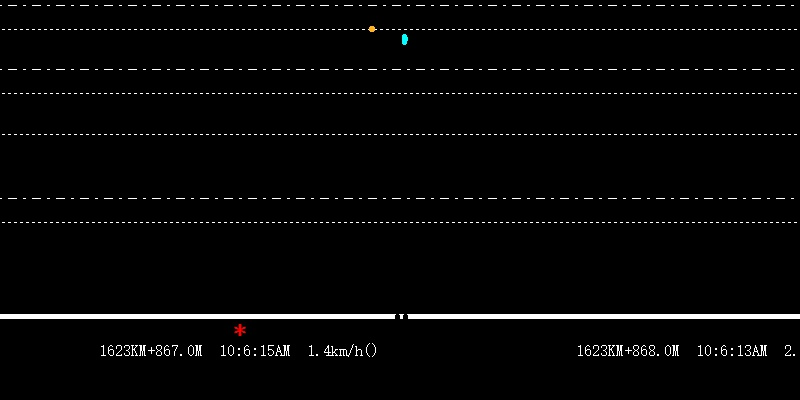face_1: (364, 21, 378, 38)
face_down: (399, 27, 410, 47)
star: (232, 321, 248, 335)
